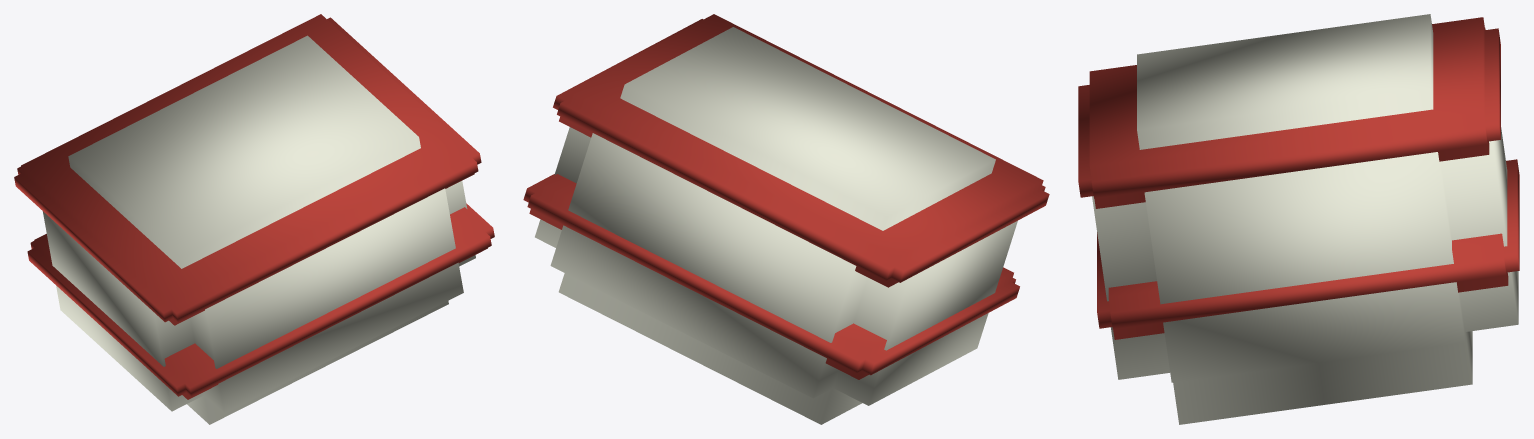
The model's file is diner_cap.glb.
3 renders of one model, left to right at view 1: azimuth 30°, elevation 25°; view 2: azimuth 150°, elevation 25°; view 3: azimuth 270°, elevation 25°, orthographic. The views are drawn at different scales.
Parts seen in each view (by area): view 1: CapBody, CapStripeTop, CapStripeSide; view 2: CapBody, CapStripeTop, CapStripeSide; view 3: CapBody, CapStripeTop, CapStripeSide.
Boxes of the visible parts, <box> form: CapBody: <box>42,35,475,424</box>; CapStripeTop: <box>14,14,481,325</box>; CapStripeSide: <box>27,203,494,399</box>; CapBody: <box>535,27,1017,424</box>; CapStripeTop: <box>553,14,1049,287</box>; CapStripeSide: <box>523,174,1019,379</box>; CapBody: <box>1092,14,1518,424</box>; CapStripeTop: <box>1078,17,1500,208</box>; CapStripeSide: <box>1097,159,1519,339</box>.
Size of the model in its own units: 0.3345 by 0.2538 by 0.2621.
